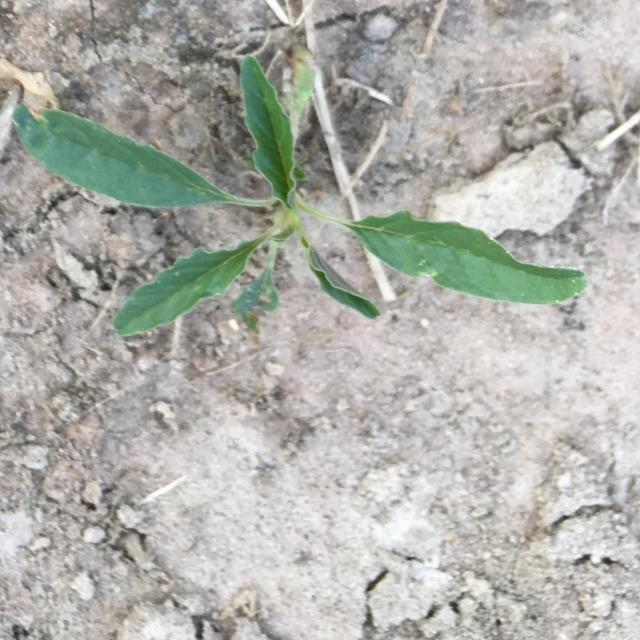Waterhemp: (12, 42, 588, 338)
